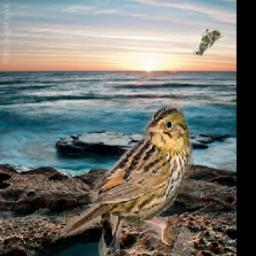Cuckoo: (193, 29, 226, 56)
Sparrow: (60, 104, 194, 256)
